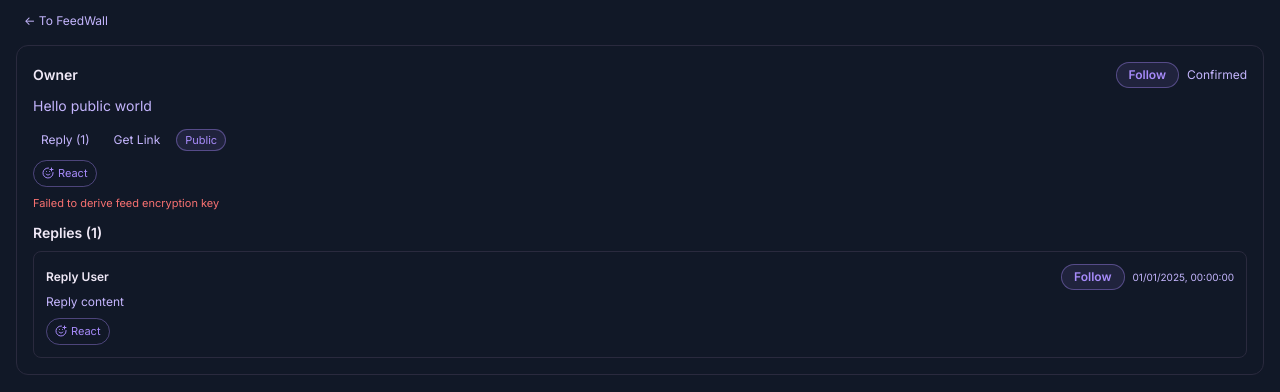
Scenario: SocialPostPermalinkPage › renders public reply authors with identity names for logged-in viewers
Expected: the button with test id "social-permalink-comment" reads "Reply (1)", 33,128 -> 98,152
Expected: the text with test id "social-permalink-replies-title" reads "Replies (1)", 33,224 -> 102,241
Click the button with test id "social-permalink-follow-author". click: (1147, 75)
box: 1116,62 -> 1179,88
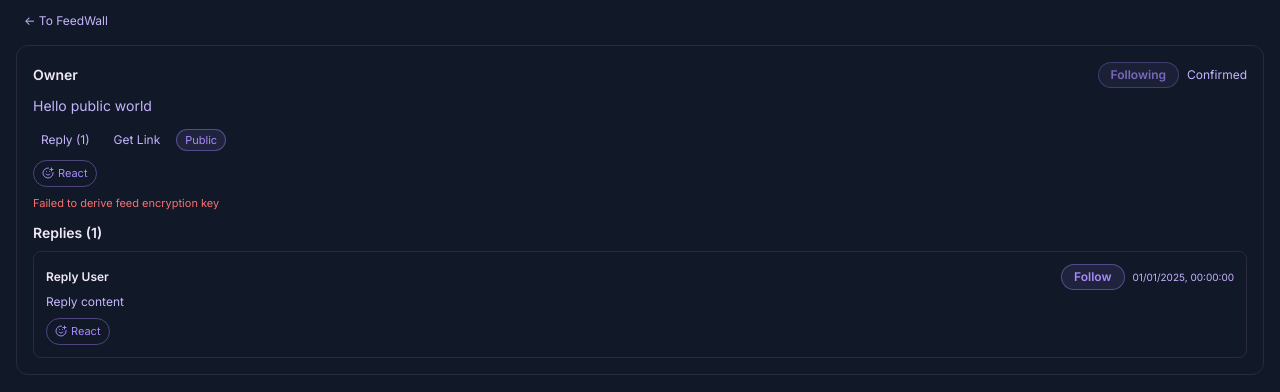
Expected: the element with test id "social-permalink-reply-reply-1" shows "Reply User", 46,269 -> 109,284
Expected: the button with test id "social-permalink-follow-author" reads "Following", 1098,62 -> 1179,88
